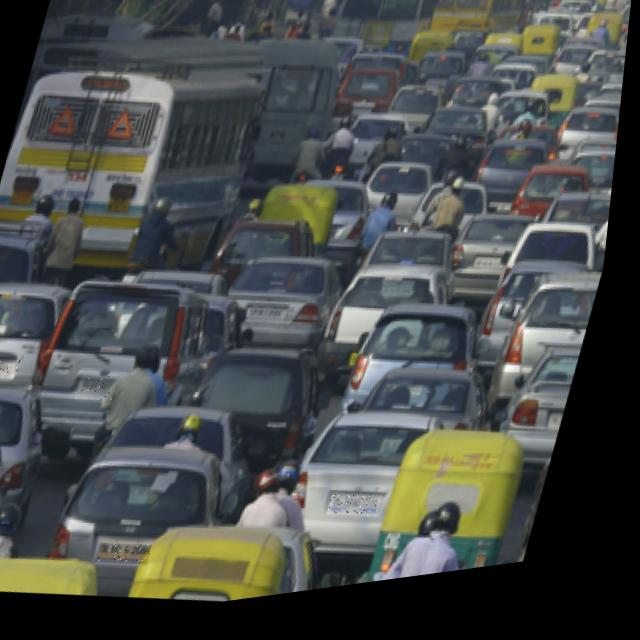license_plate: (338, 498, 395, 534), (105, 541, 165, 575), (83, 374, 127, 408), (0, 353, 29, 383)
